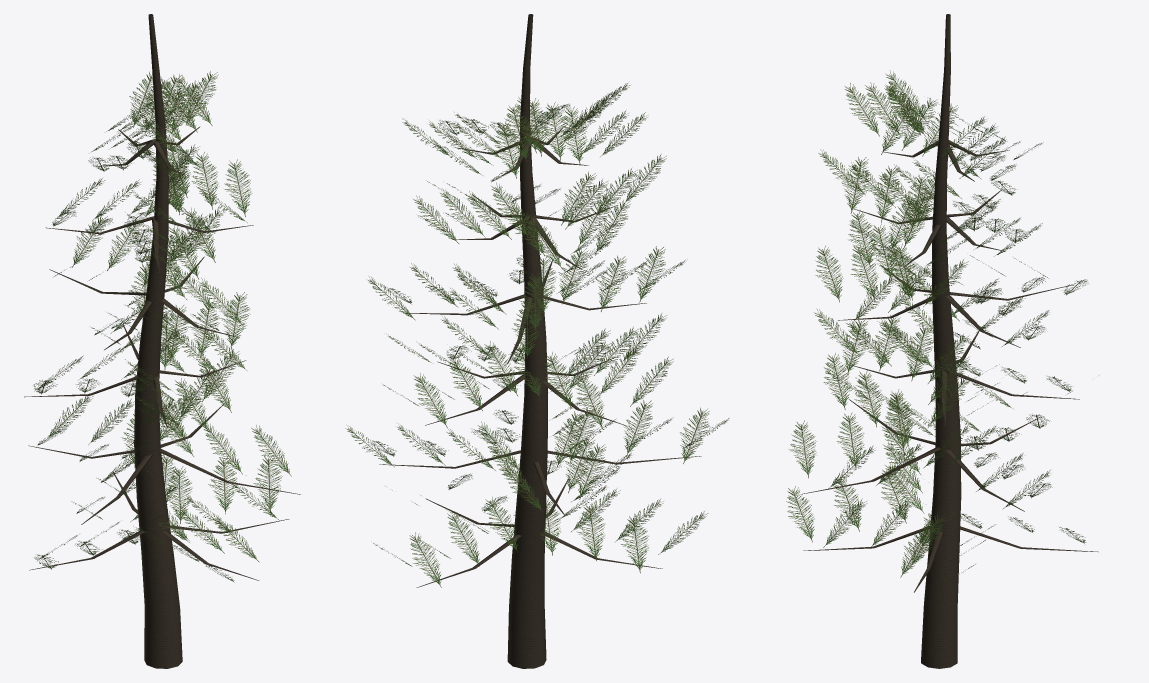
The model's file is Pine_83_LOD1.fbx.
3 renders of one model, left to right at view 1: azimuth 30°, elevation 25°; view 2: azimuth 150°, elevation 25°; view 3: azimuth 270°, elevation 25°, orthographic.
Visible parts, largest first — view 1: Pine_83_LOD1; view 2: Pine_83_LOD1; view 3: Pine_83_LOD1.
Boxes of the visible parts, bbox=[...] form: Pine_83_LOD1: bbox=[24, 14, 300, 668]; Pine_83_LOD1: bbox=[345, 14, 728, 668]; Pine_83_LOD1: bbox=[786, 14, 1098, 668].
Bounding box in the file's own units: 483 × 949 × 492.
